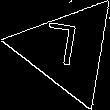L_S: (47, 23, 87, 77)
